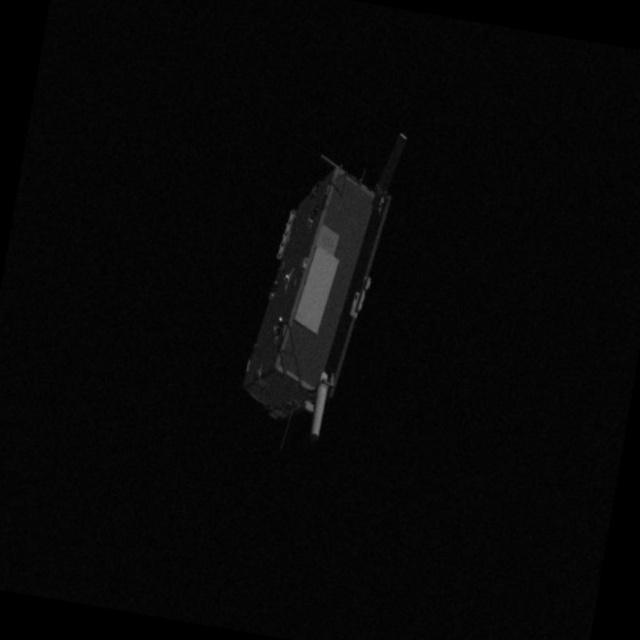medium_debris: (238, 105, 424, 468)
